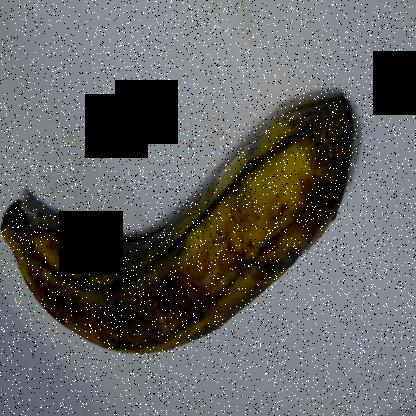overripe: (1, 93, 367, 374)
